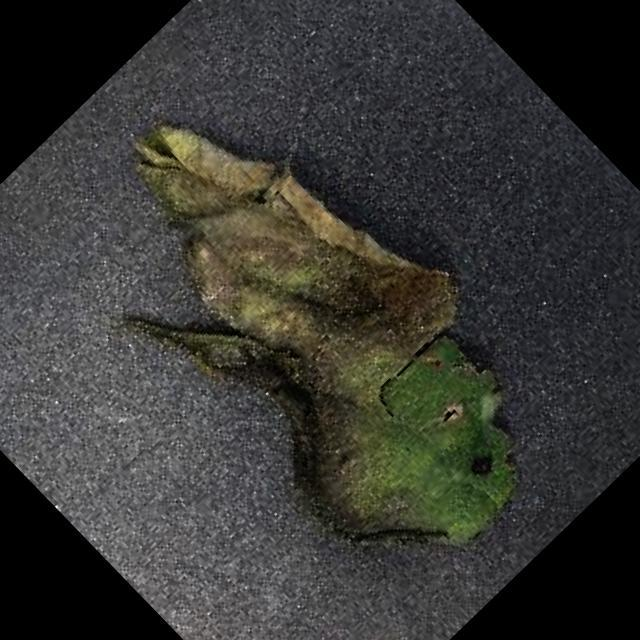Tomato late blight leaf: (34, 48, 600, 620)
